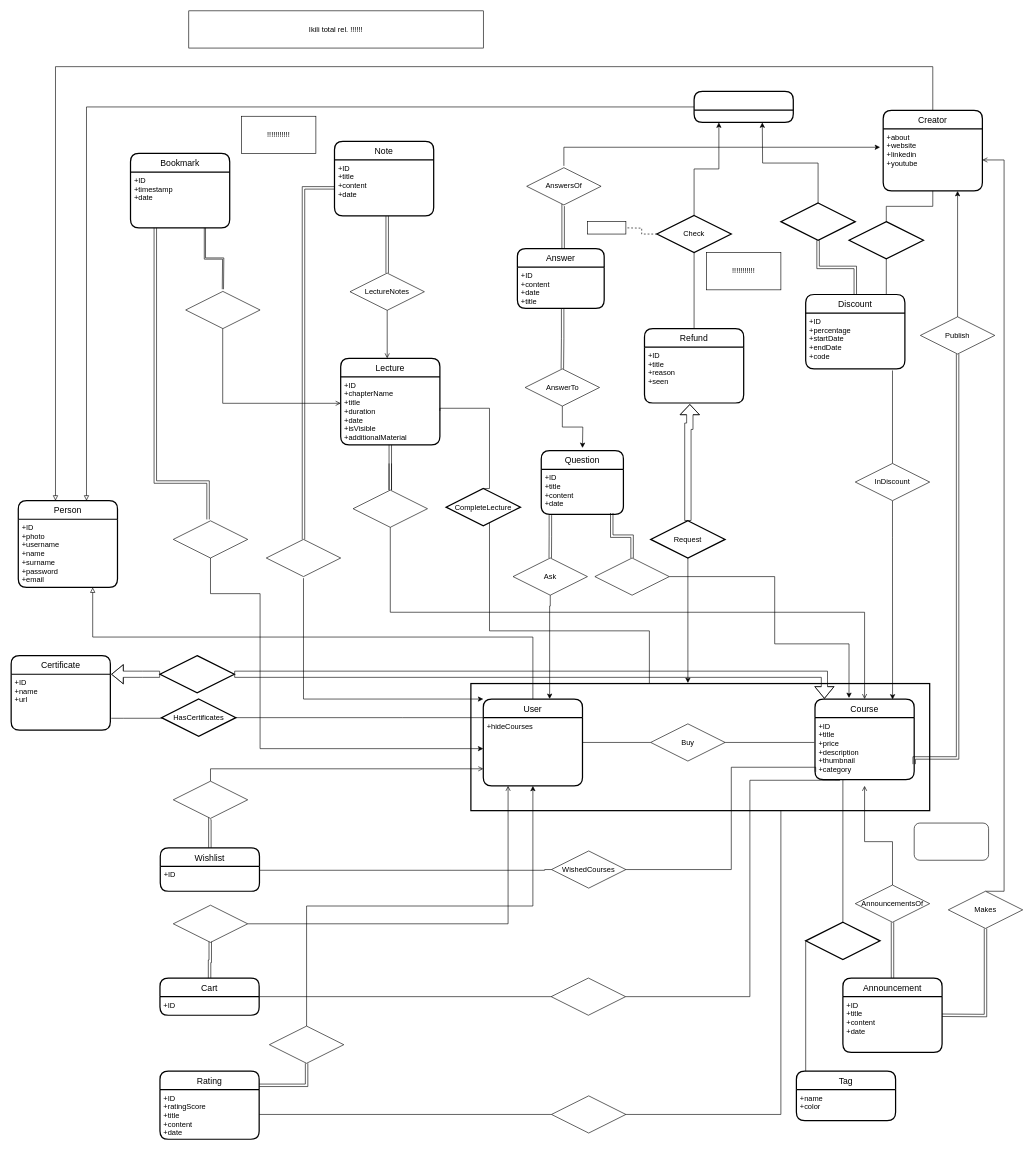
Image size: 1034x1151. Some labels were removed from this diagram. Here are the shapes that lost their labels. From the top down, the centre of each, then its label:
At [743,107]: "Admin".
At [606,227]: "state".
At [818,221]: "Offer".
At [886,240]: "Allow".
At [222,310]: "LectureBookmarks".
At [389,508]: "LecturesOf".
At [210,539]: "BookmarksOf".
At [303,558]: "NotesOf".
At [631,576]: "QuestionOf".
At [197,674]: "Certificate_of".
At [210,799]: "Wishes".
At [951,841]: "AnnouncementOf silinsin mi?".
At [210,923]: "WillBuy".
At [842,940]: "TagsOf".
At [588,996]: "WillBuyCourses".
At [306,1044]: "RatedBy".
At [588,1114]: "Rated".
